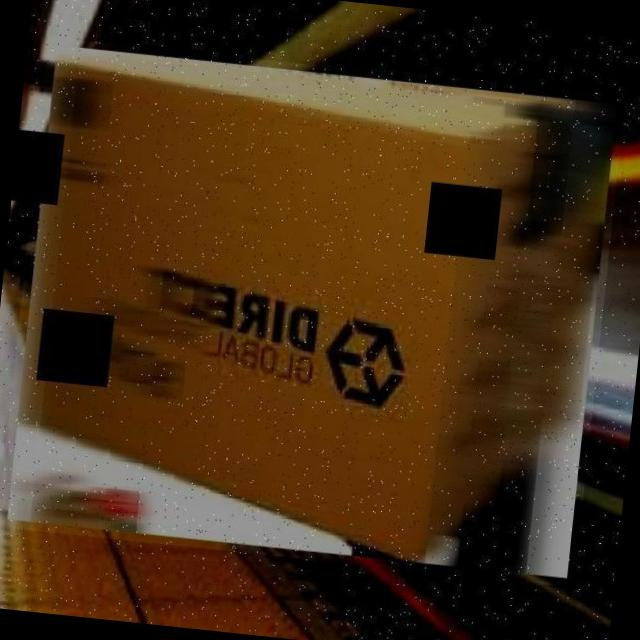box: (0, 36, 625, 587)
